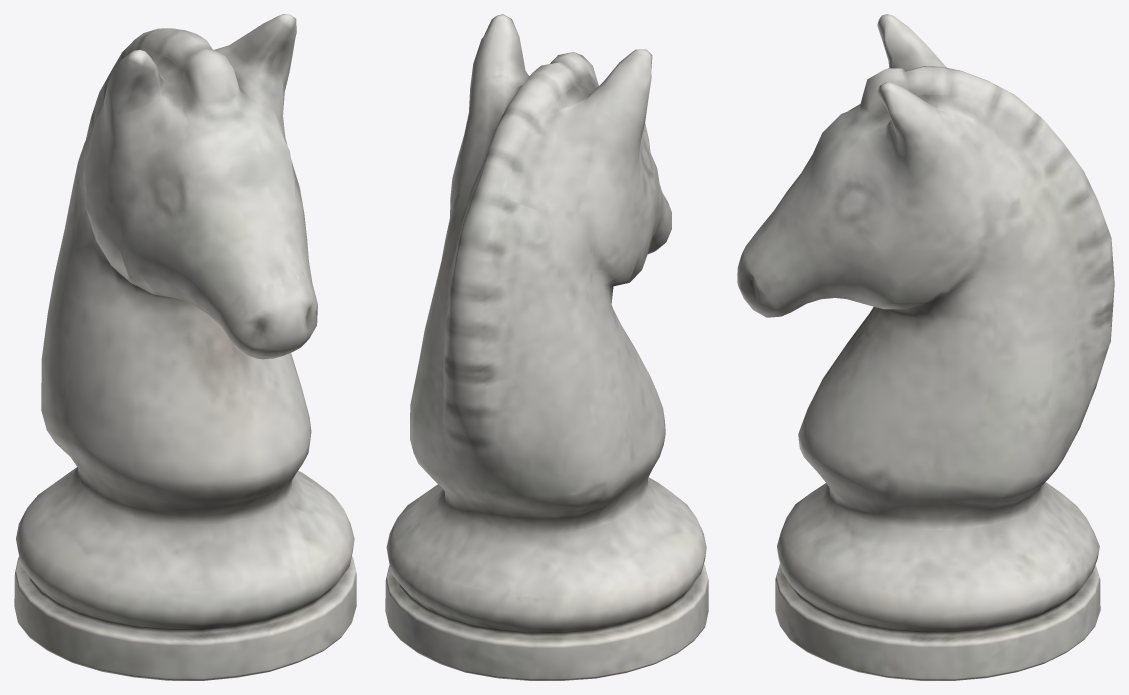
Rendered from chess_set__knight_w.glb.
3 renders of one model, left to right at view 1: azimuth 30°, elevation 25°; view 2: azimuth 150°, elevation 25°; view 3: azimuth 270°, elevation 25°, orthographic. The views are drawn at different scales.
Parts seen in each view (by area): view 1: chess_set_pieces_white; view 2: chess_set_pieces_white; view 3: chess_set_pieces_white.
Boxes of the visible parts, x1,y1,x2,y2 form: chess_set_pieces_white: (14, 14, 356, 680); chess_set_pieces_white: (385, 14, 708, 680); chess_set_pieces_white: (737, 14, 1114, 680).
Bounding box in the file's own units: 0.0388 × 0.075 × 0.0454.
1 material, 1 textured.
